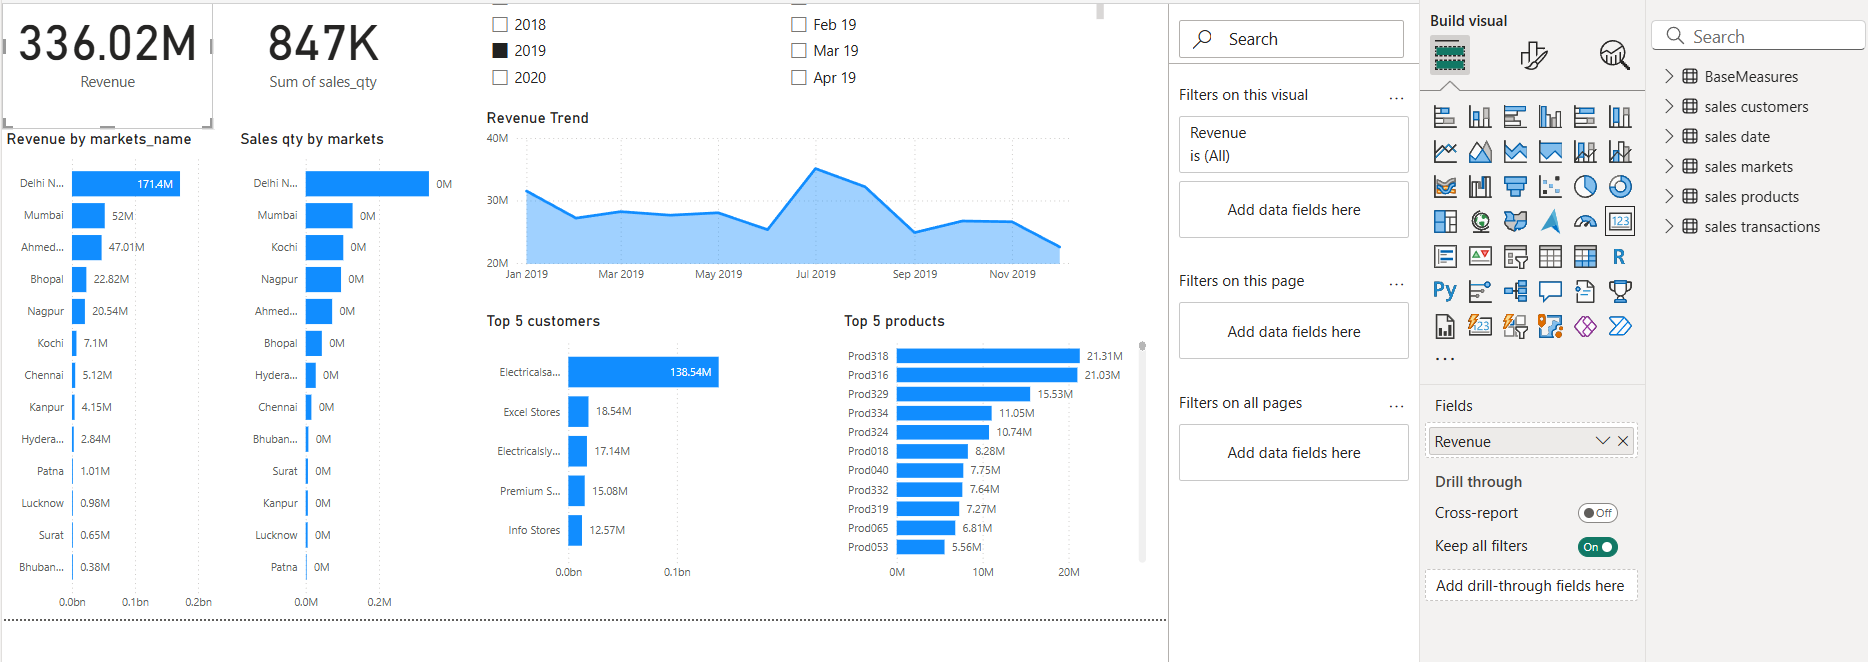

Layout of this report page (visuals, bound fields, positions):
{"tool":"powerbi","page":{"name":"Page 1","canvas":[1280,720],"ordinal":0},"visuals":[{"type":"card","fields":{"Values":["BaseMeasures.Revenue"]},"box":[0,0,231.9,182.5],"z":0},{"type":"card","fields":{"Values":["Sum(sales transactions.sales_qty)"]},"box":[231.9,0,241.5,182.5],"z":1000},{"type":"barChart","fields":{"Y":["BaseMeasures.Revenue"],"Category":["sales markets.markets_name"]},"box":[0,182.5,256.6,537.9],"z":2000},{"type":"barChart","title":"Sales qty by markets","fields":{"Category":["sales markets.markets_name"],"Y":["BaseMeasures.Sales qty"]},"box":[256.6,182.5,256.6,537.9],"z":3000},{"type":"slicer","fields":{"Values":["sales date.year"]},"box":[525.6,0,150.9,144.1],"z":4000},{"type":"slicer","fields":{"Values":["sales date.cy_date"]},"box":[853.5,0,360.9,144.1],"z":5000},{"type":"barChart","title":"Top 5 customers","fields":{"Category":["sales customers.custmer_name"],"Y":["BaseMeasures.Revenue"]},"box":[526.9,382.8,326.6,304.6],"z":6000},{"type":"barChart","title":"Top 5 products","fields":{"Category":["sales transactions.product_code"],"Y":["BaseMeasures.Revenue"]},"box":[919.4,382.8,341.7,304.6],"z":7000},{"type":"lineChart","title":"Revenue Trend","fields":{"Y":["BaseMeasures.Revenue"],"Category":["sales date.cy_date.Variation.Date Hierarchy.Year","sales date.cy_date.Variation.Date Hierarchy.Quarter","sales date.cy_date.Variation.Date Hierarchy.Month","sales date.cy_date.Variation.Date Hierarchy.Day"]},"box":[526.9,159.2,665.5,200.3],"z":8000}]}

Visuals, with their boxes on the page's 1280x720 design canvas (x1, y1, x2, y2). These are canvas units, not pixel positions in the 1868x662 screenshot, which may show the page scaled, cropped or inside an application window:
card - BaseMeasures.Revenue: box(0, 0, 232, 182)
card - Sum(sales transactions.sales_qty): box(232, 0, 473, 182)
barChart - BaseMeasures.Revenue x sales markets.markets_name: box(0, 182, 257, 720)
"Sales qty by markets" barChart: box(257, 182, 513, 720)
slicer - sales date.year: box(526, 0, 676, 144)
slicer - sales date.cy_date: box(854, 0, 1214, 144)
"Top 5 customers" barChart: box(527, 383, 854, 687)
"Top 5 products" barChart: box(919, 383, 1261, 687)
"Revenue Trend" lineChart: box(527, 159, 1192, 360)
